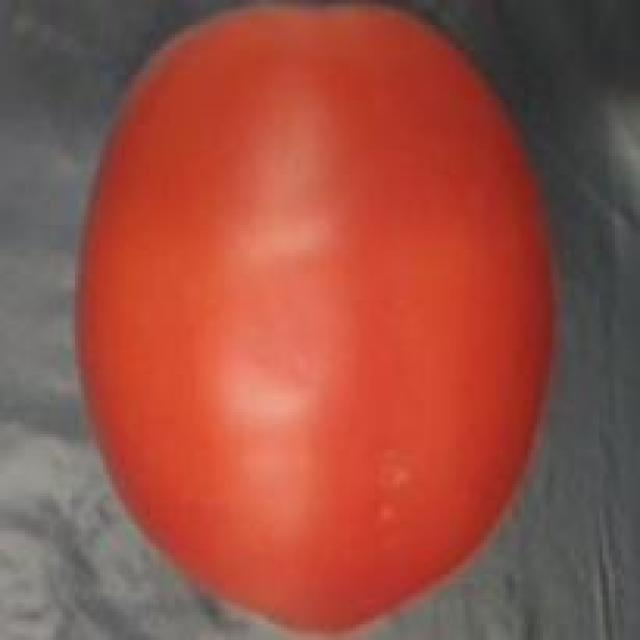ripe tomato: (66, 3, 572, 640)
